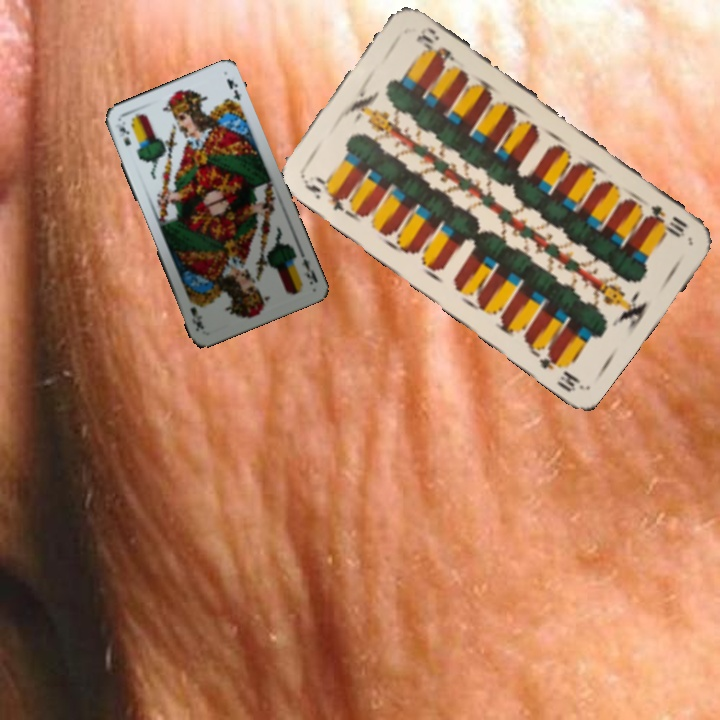E10: (298, 171, 350, 215), (642, 201, 690, 240)
EK: (297, 255, 320, 285), (114, 122, 134, 148)
